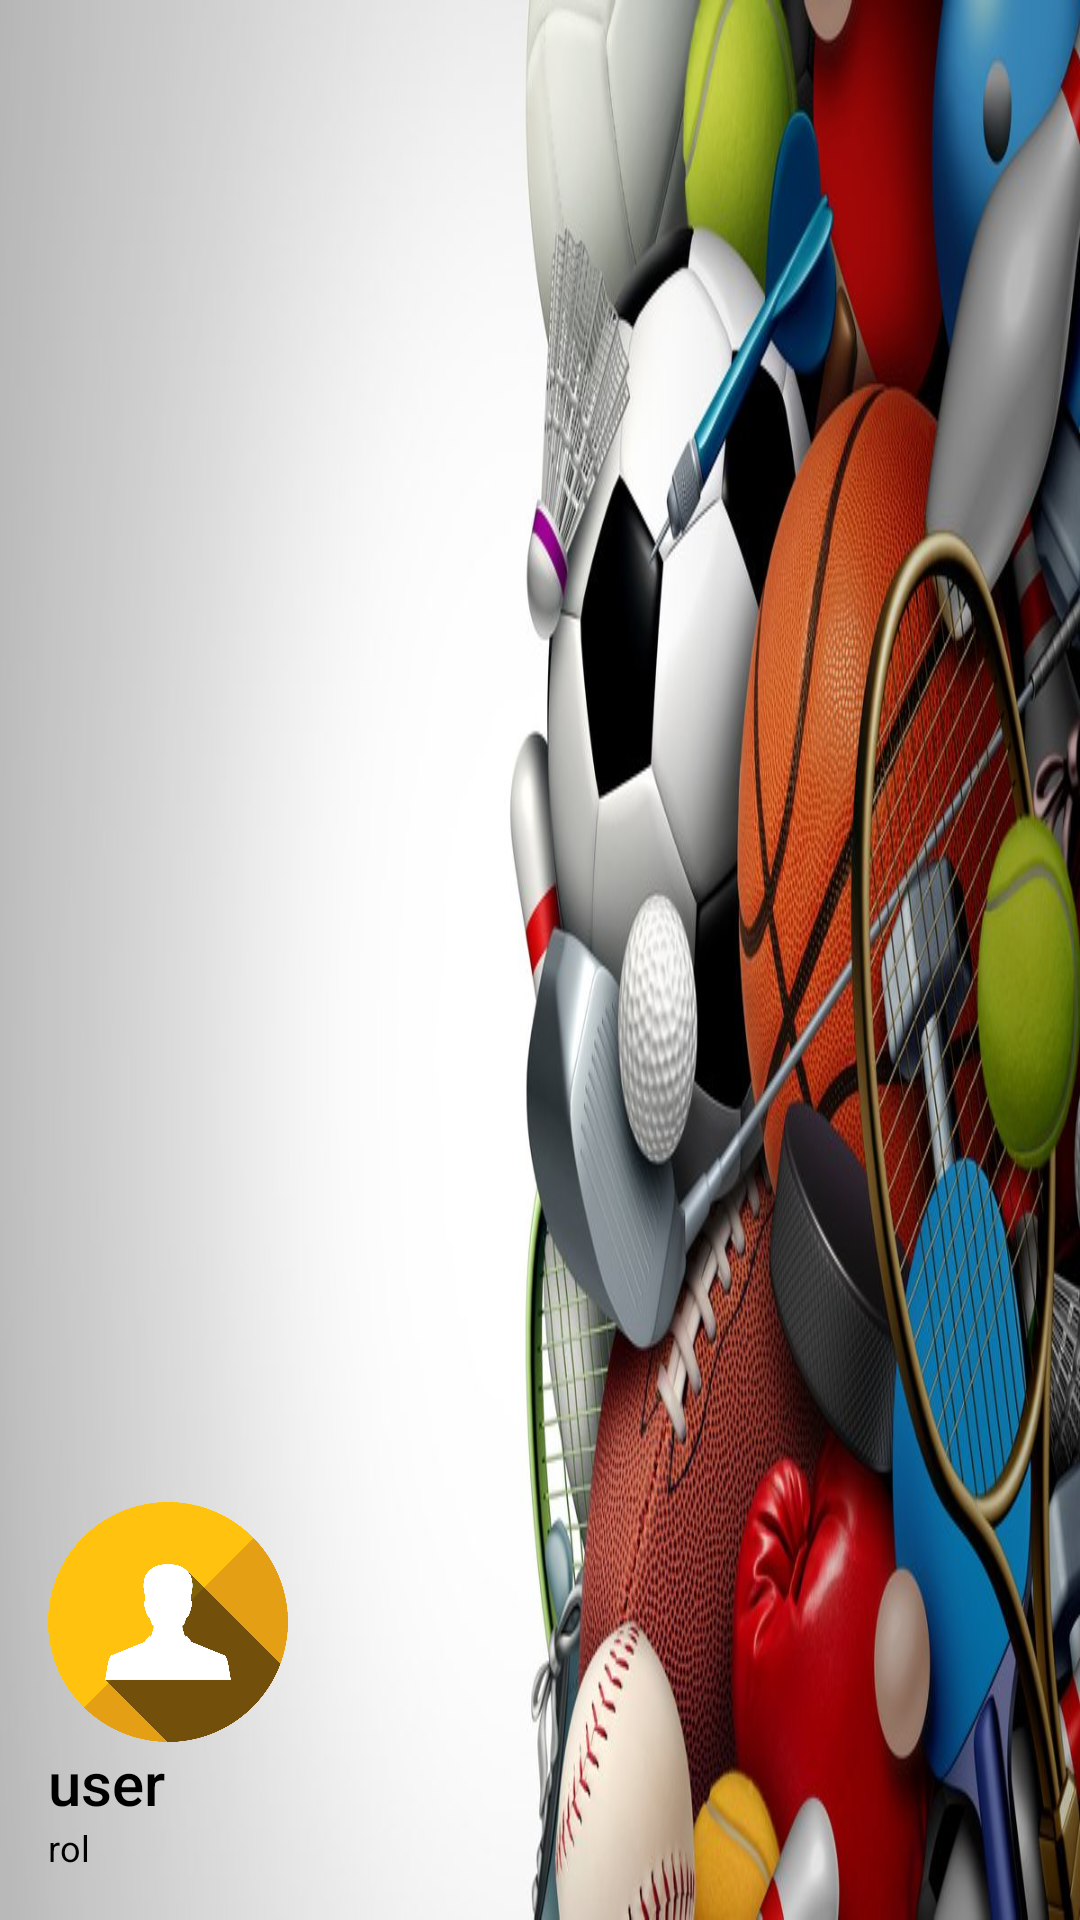

Screen size 1080 x 1920. Icon name, then its center in pixels as (x=x, y=y):
profile: (x=168, y=1622)
